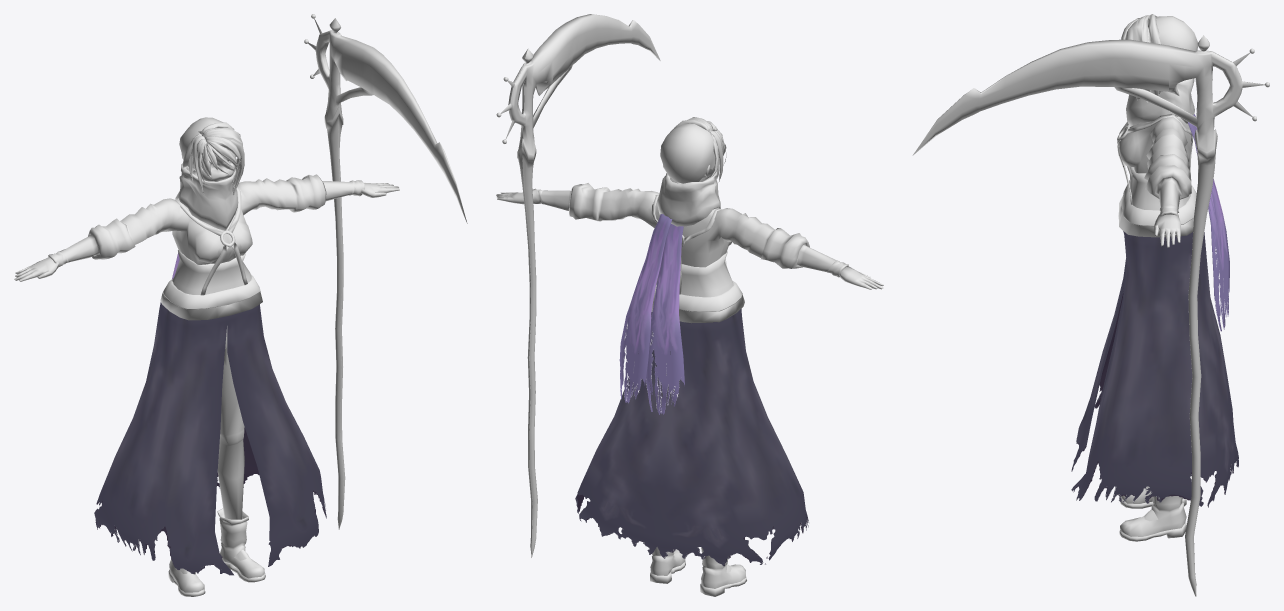
3 views of the same model, side by side, from view 1: azimuth 30°, elevation 25°; view 2: azimuth 150°, elevation 25°; view 3: azimuth 270°, elevation 25° (orthographic). The views are drawn at different scales.
Parts seen in each view (by area): view 1: dress, body&Head, Cylinder; view 2: dress, body&Head, Cylinder; view 3: dress, Cylinder, body&Head.
Boxes of the visible parts, x1,y1,x2,y2 form: dress: (94, 302, 326, 575); body&Head: (14, 117, 399, 596); Cylinder: (304, 14, 467, 529); dress: (575, 309, 809, 566); body&Head: (496, 117, 883, 596); Cylinder: (496, 14, 660, 557); dress: (1071, 231, 1238, 507); Cylinder: (912, 35, 1269, 596); body&Head: (1117, 14, 1229, 541).
Size of the model in its own units: 824 by 1045 by 603.
